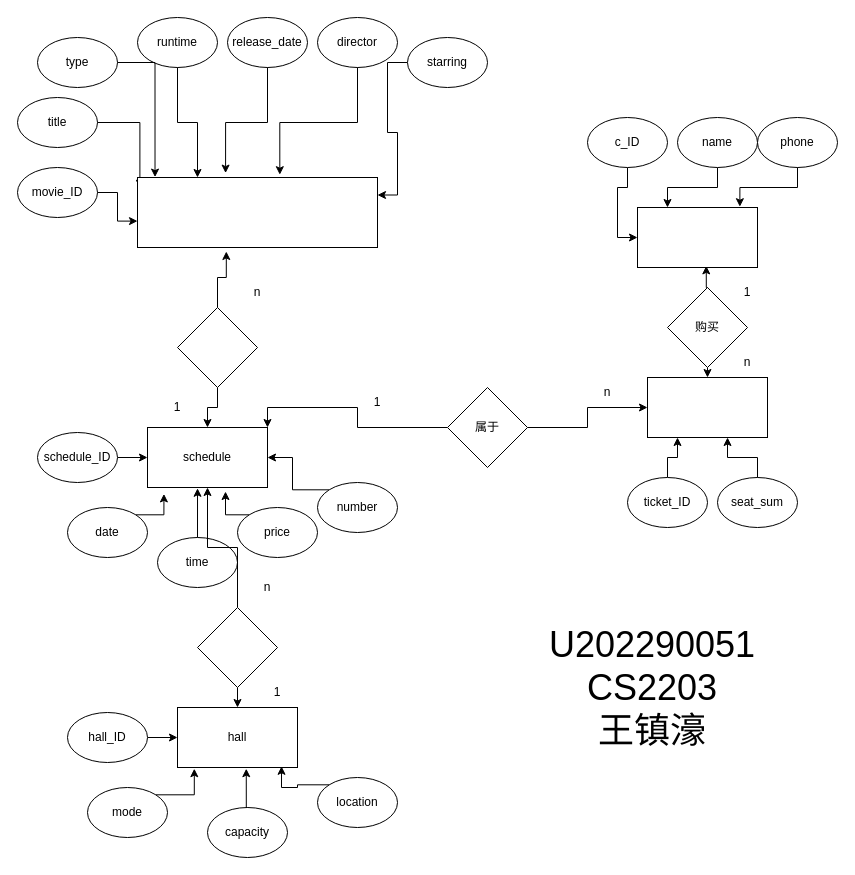
The diagram is 855 pixels wide and 875 high, and some of its shapes have lost their labels. The centre of each missing label's shape, as x and y in pixels:
"customer" belongs at (x=697, y=237).
"movie" belongs at (x=257, y=212).
"ticket" belongs at (x=707, y=407).
"位于" belongs at (x=237, y=647).
"放映" belongs at (x=217, y=347).
